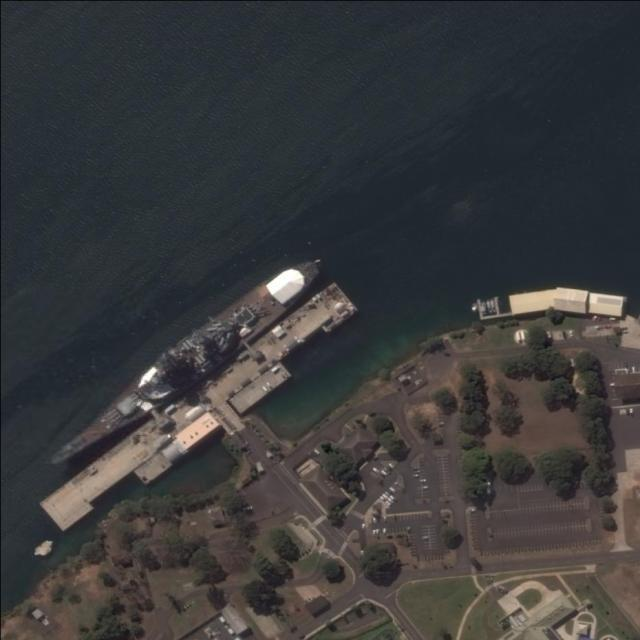Dock: (37, 278, 356, 534)
Other Warship: (43, 248, 324, 478)
